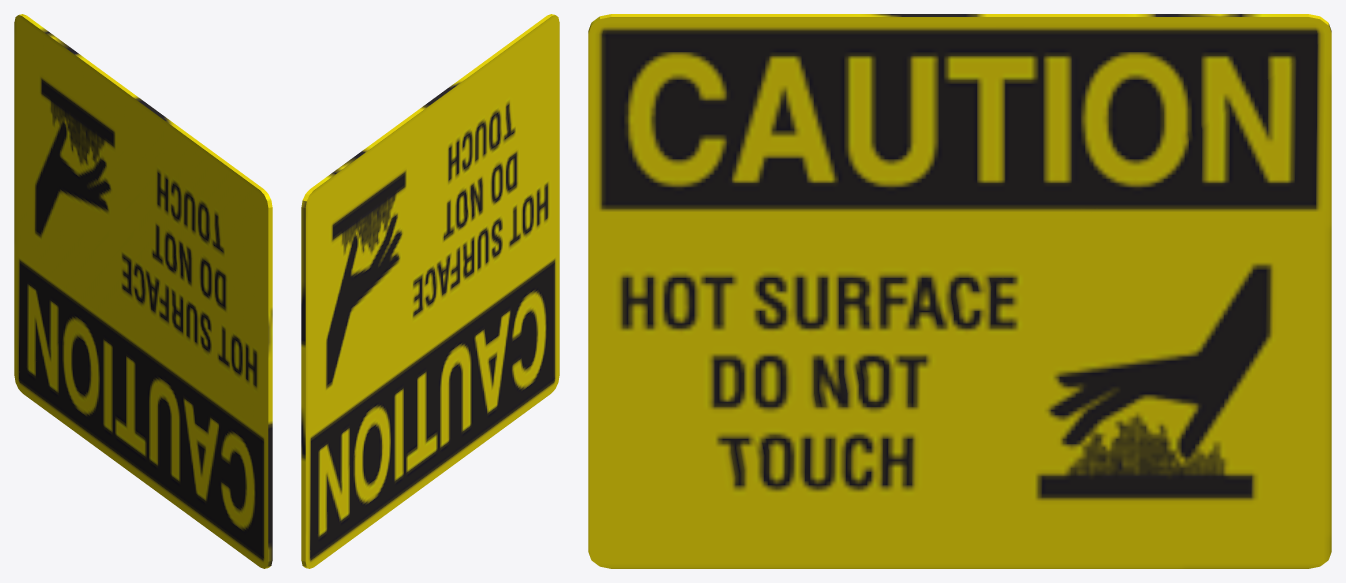
File: DecalCautionOne.fbx
3 views of the same model, side by side, from view 1: azimuth 30°, elevation 25°; view 2: azimuth 150°, elevation 25°; view 3: azimuth 270°, elevation 25° (orthographic). The views are drawn at different scales.
Visible parts, largest first — view 1: DecalCautionOne; view 2: DecalCautionOne; view 3: DecalCautionOne.
Part boxes in pixels (left/top/right/bottom): DecalCautionOne: left=14, top=14, right=272, bottom=568; DecalCautionOne: left=301, top=14, right=559, bottom=568; DecalCautionOne: left=588, top=14, right=1331, bottom=568.
Size of the model in its own units: 5.01e-05 by 0.00435 by 0.00532.
